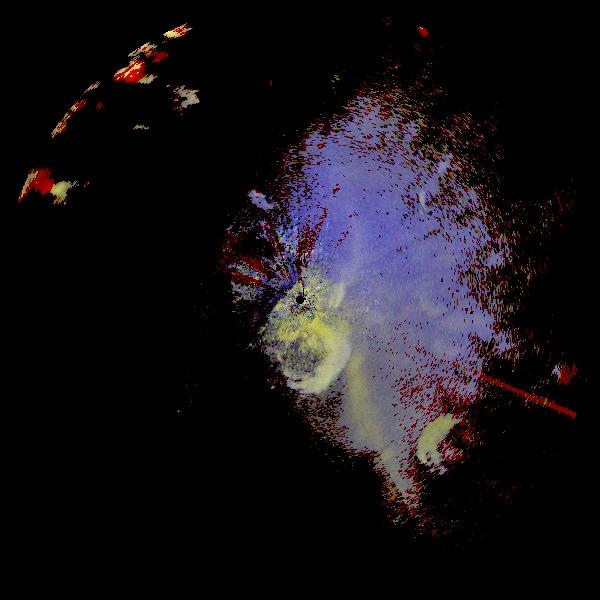roost: (250, 289, 373, 412), (399, 145, 501, 247), (409, 404, 505, 500)
